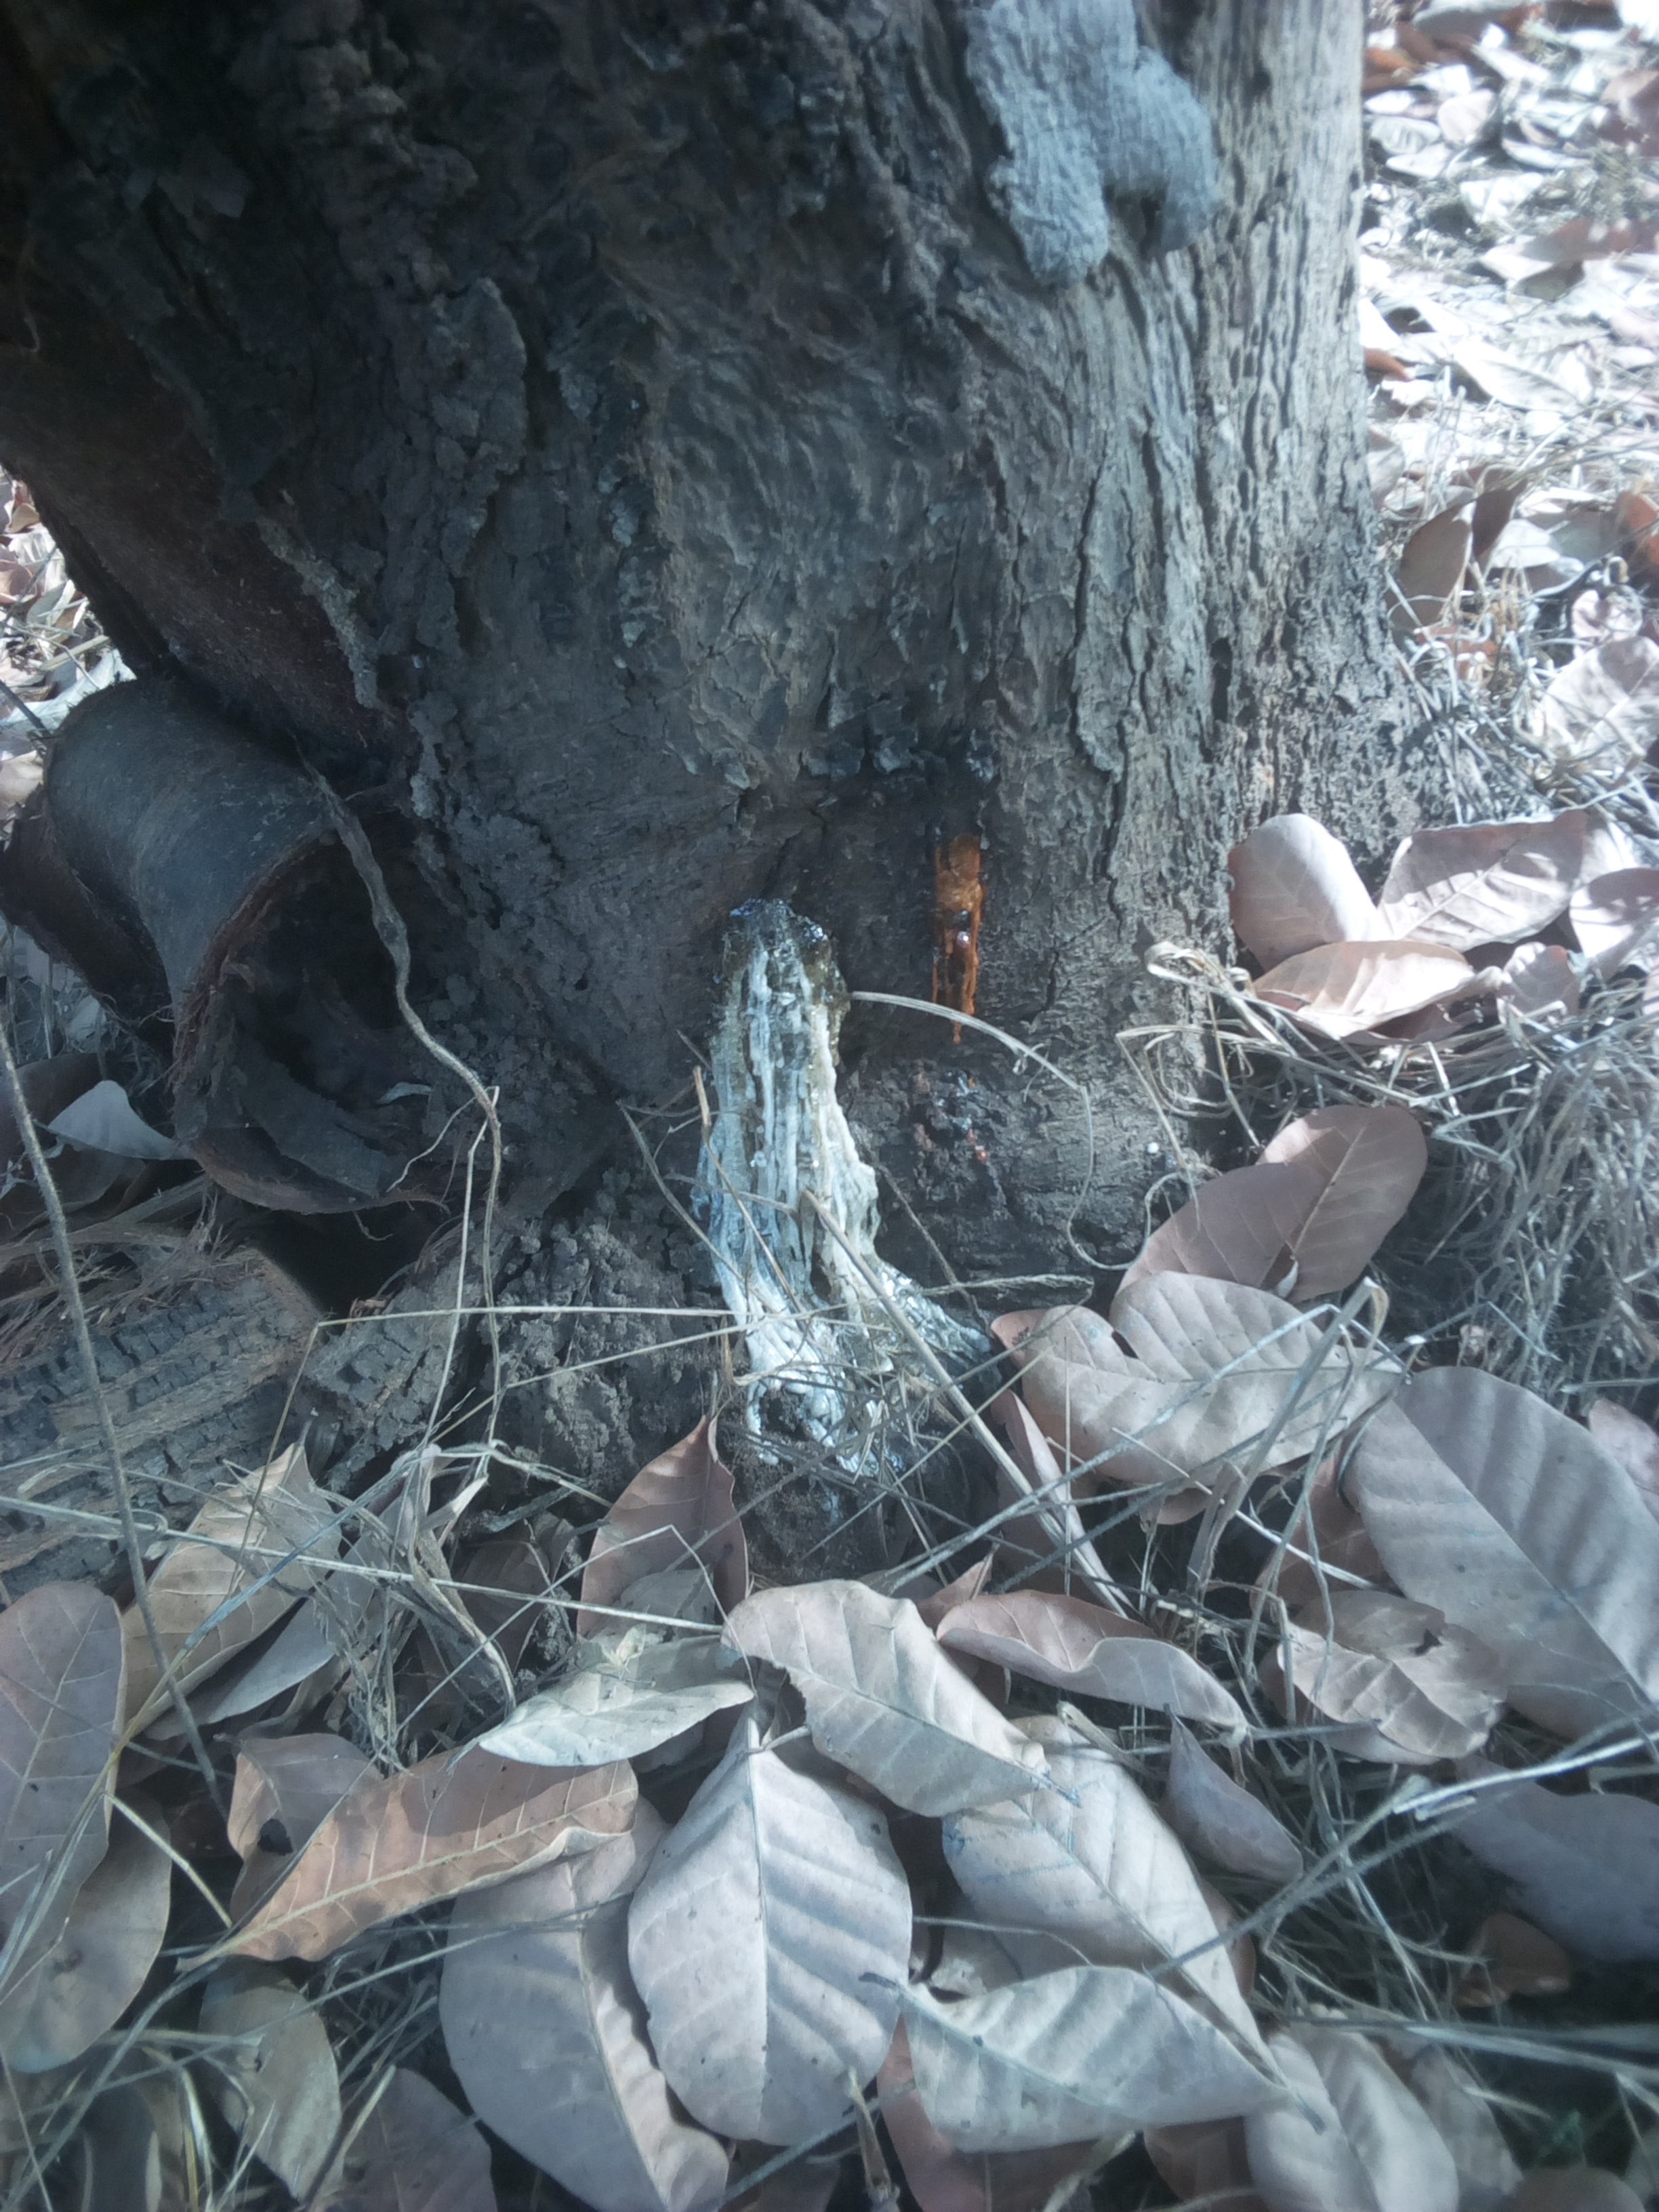Gommose: (805, 639, 1019, 1005)
